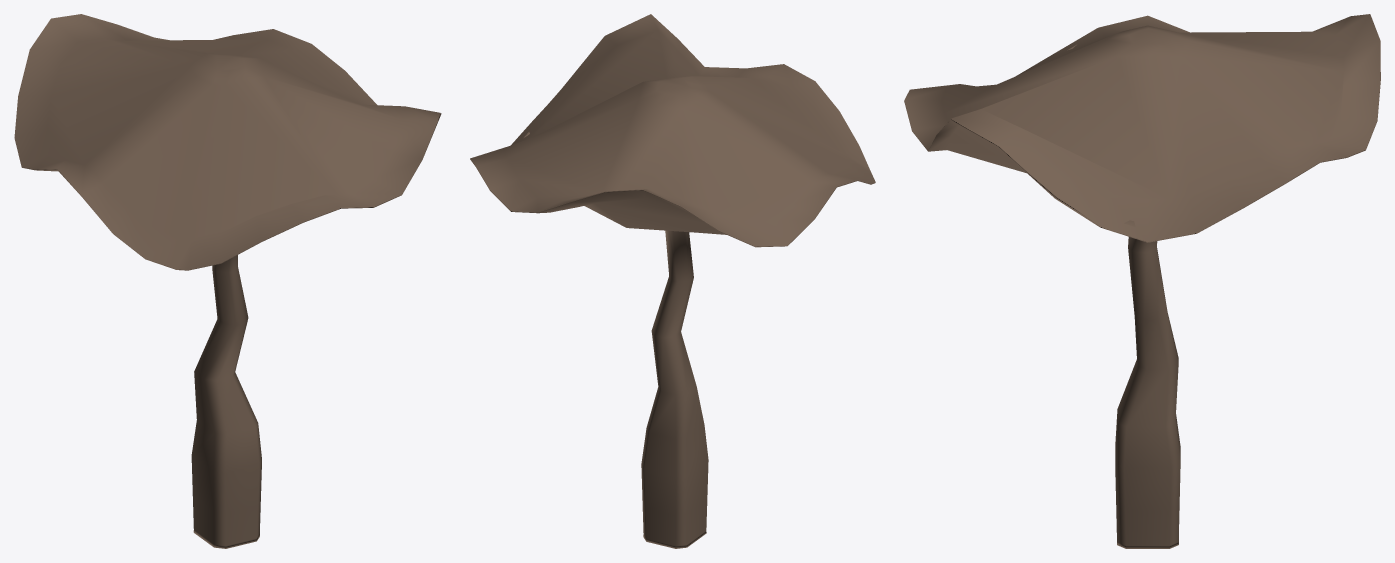
Rendered from baby_mushroom_untextured.fbx.
3 renders of one model, left to right at view 1: azimuth 30°, elevation 25°; view 2: azimuth 150°, elevation 25°; view 3: azimuth 270°, elevation 25°, orthographic. The views are drawn at different scales.
Parts seen in each view (by area): view 1: baby_mushroom1; view 2: baby_mushroom1; view 3: baby_mushroom1.
Part boxes in pixels (<box>): baby_mushroom1: <box>14,14,441,548</box>; baby_mushroom1: <box>470,14,875,548</box>; baby_mushroom1: <box>904,14,1380,548</box>.
Bounding box in the file's own units: 284 × 371 × 319.
